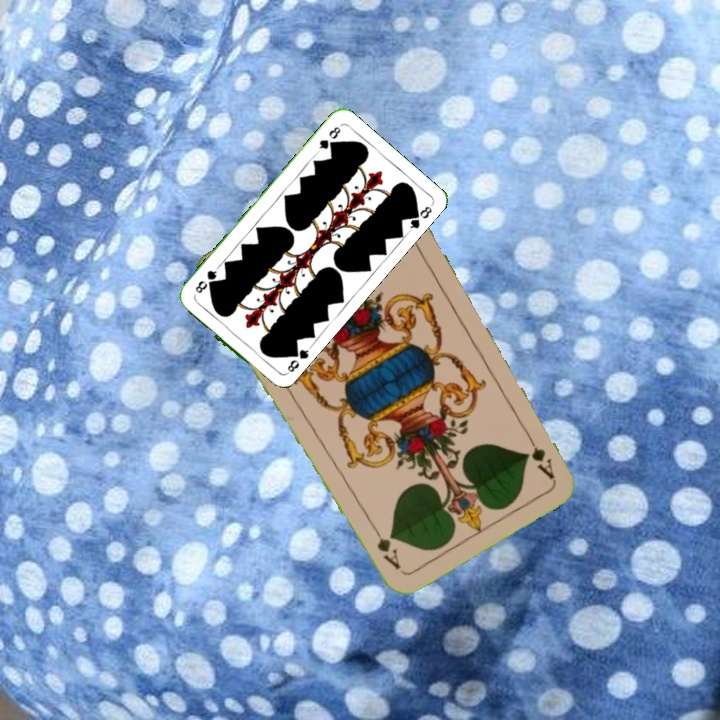G8: (281, 343, 312, 378), (313, 122, 343, 155)
GA: (521, 427, 558, 482)
